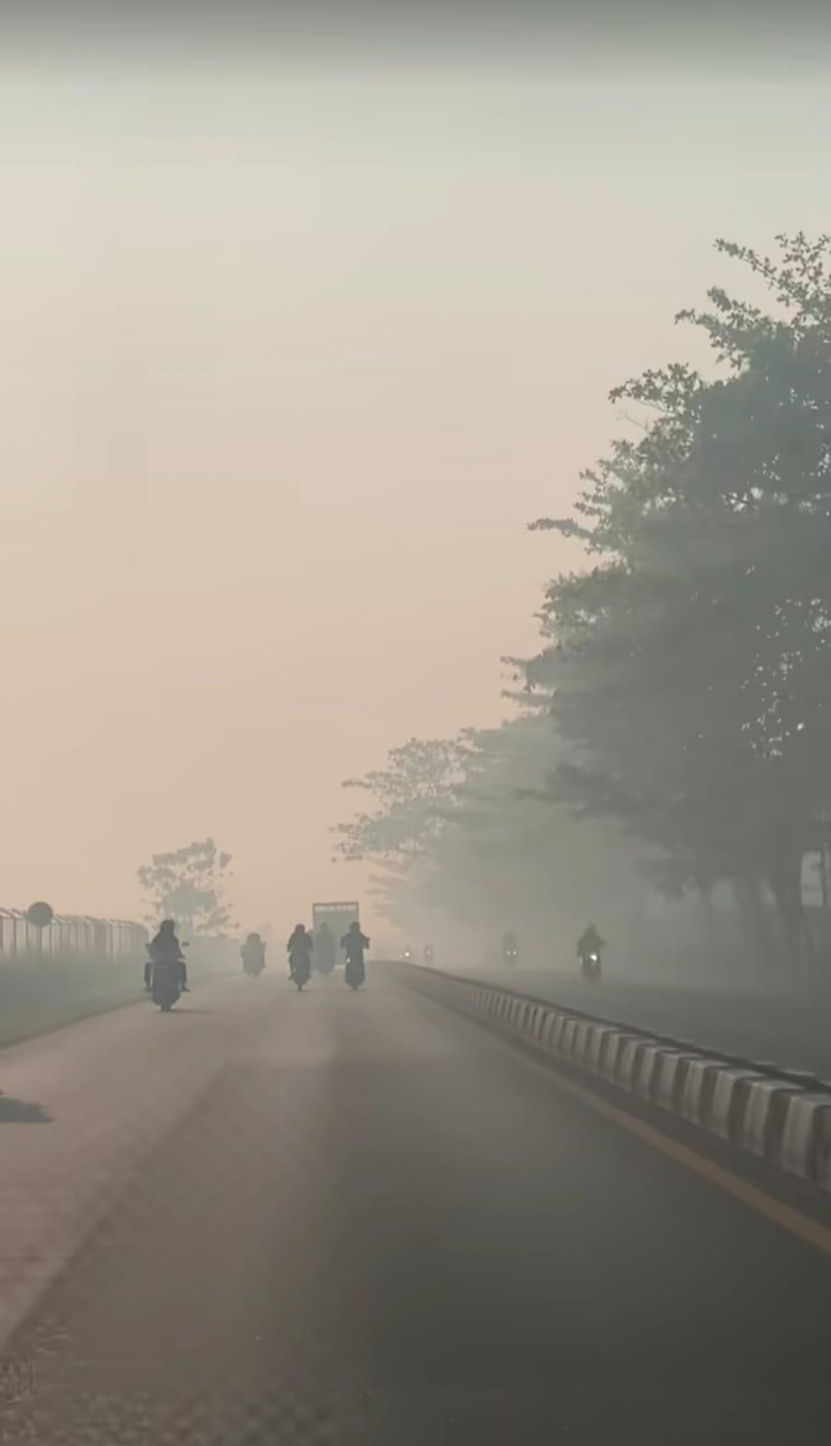Deteksi-Objek-Citra-Berasap: (0, 59, 831, 1028)
Kendaraan: (311, 901, 360, 980), (143, 944, 190, 1012), (287, 946, 312, 992), (343, 945, 366, 991), (578, 945, 603, 986), (241, 946, 267, 980), (502, 937, 520, 972), (420, 942, 435, 968)
Manusia: (145, 919, 185, 993), (340, 921, 370, 969), (287, 924, 314, 968), (576, 924, 605, 962), (242, 933, 265, 969)
Vegetasi: (487, 230, 831, 950), (330, 732, 524, 939), (131, 836, 240, 941)
